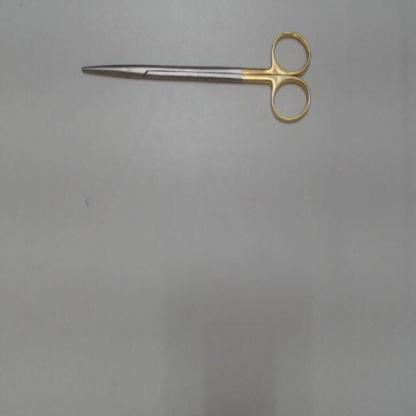7 Metzenbaum Scissors: (80, 24, 318, 131)
